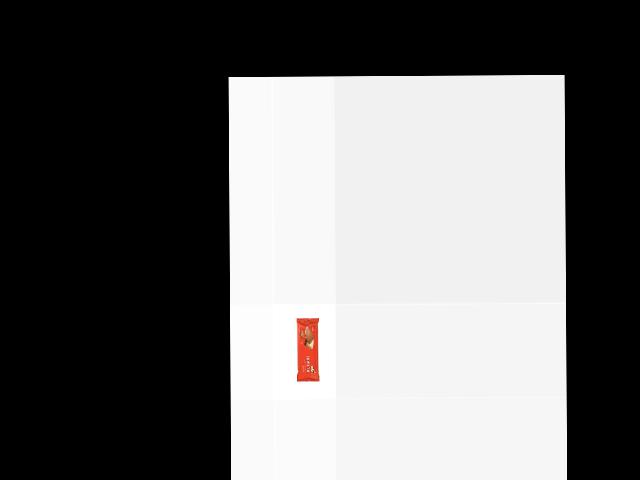chocolate: (295, 318, 319, 384)
